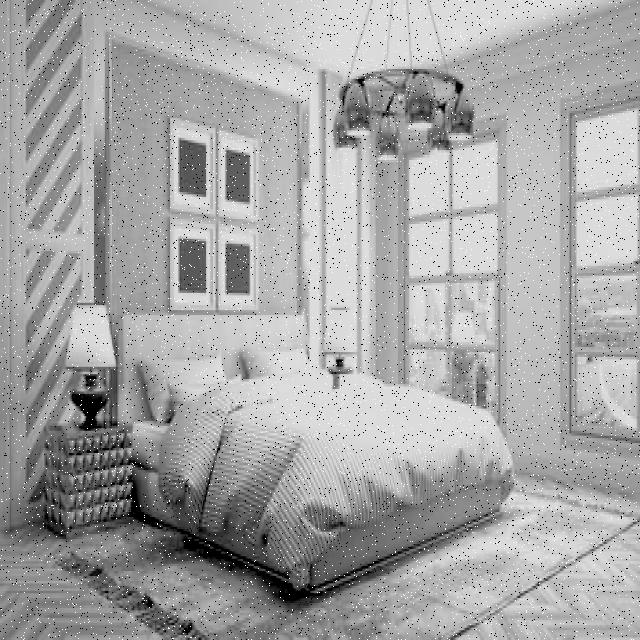bed: (133, 305, 510, 560)
